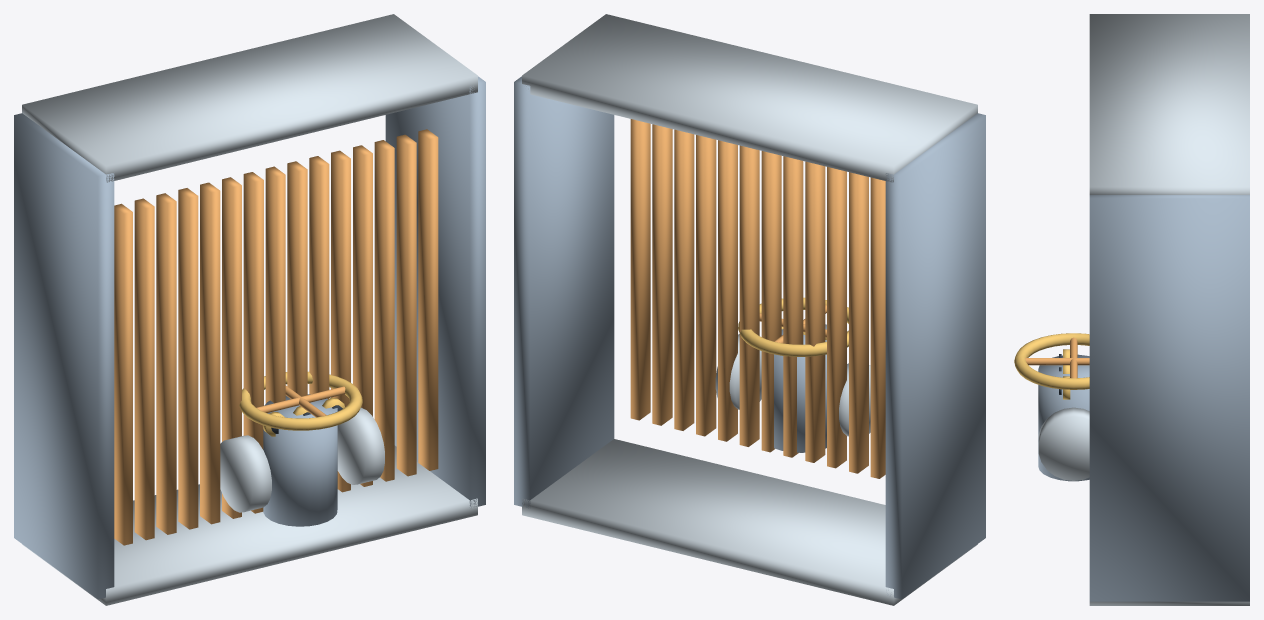
Rendered from 70_L89_ShelterThermalAirReclaimer.glb.
The picture shows the model from 3 angles, left to right: view 1: azimuth 30°, elevation 25°; view 2: azimuth 150°, elevation 25°; view 3: azimuth 270°, elevation 25°; orthographic projection. The views are drawn at different scales.
Parts seen in each view (by area): view 1: L87_ShelterThermalAirReclaime_Part_0002, L87_ShelterThermalAirReclaime_Part_0000, L87_ShelterThermalAirReclaime_Part_0001, L87_ShelterThermalAirReclaime_Part_0003, L87_ShelterThermalAirReclaime_Part_0004; view 2: L87_ShelterThermalAirReclaime_Part_0000, L87_ShelterThermalAirReclaime_Part_0001, L87_ShelterThermalAirReclaime_Part_0002, L87_ShelterThermalAirReclaime_Part_0003; view 3: L87_ShelterThermalAirReclaime_Part_0000, L87_ShelterThermalAirReclaime_Part_0001, L87_ShelterThermalAirReclaime_Part_0003, L87_ShelterThermalAirReclaime_Part_0004.
Boxes of the visible parts, x1,y1,x2,y2 form: L87_ShelterThermalAirReclaime_Part_0002: (114,129,438,545); L87_ShelterThermalAirReclaime_Part_0000: (14,76,485,599); L87_ShelterThermalAirReclaime_Part_0001: (22,14,477,605); L87_ShelterThermalAirReclaime_Part_0003: (239,371,362,430); L87_ShelterThermalAirReclaime_Part_0004: (256,385,345,417); L87_ShelterThermalAirReclaime_Part_0000: (514,76,985,599); L87_ShelterThermalAirReclaime_Part_0001: (522,14,977,605); L87_ShelterThermalAirReclaime_Part_0002: (630,119,885,478); L87_ShelterThermalAirReclaime_Part_0003: (738,297,848,356); L87_ShelterThermalAirReclaime_Part_0000: (1038,195,1249,601); L87_ShelterThermalAirReclaime_Part_0001: (1038,14,1249,605); L87_ShelterThermalAirReclaime_Part_0003: (1014,333,1089,389); L87_ShelterThermalAirReclaime_Part_0004: (1025,337,1089,378).
Size of the model in its own units: 2.4 by 2.6 by 1.33.
